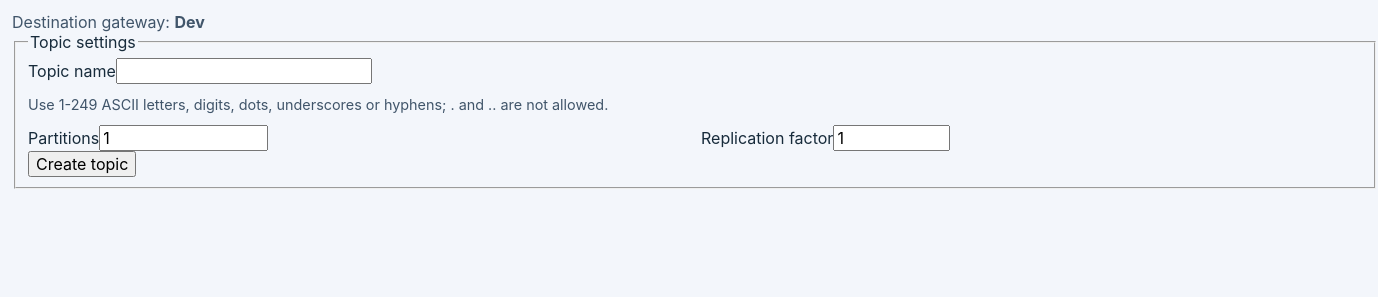
CreateTopic › warns when a network error leaves creation uncertain
Step 1. Type "orders" into the field labelled "Topic name" → (244, 71), box [116, 58, 372, 84]
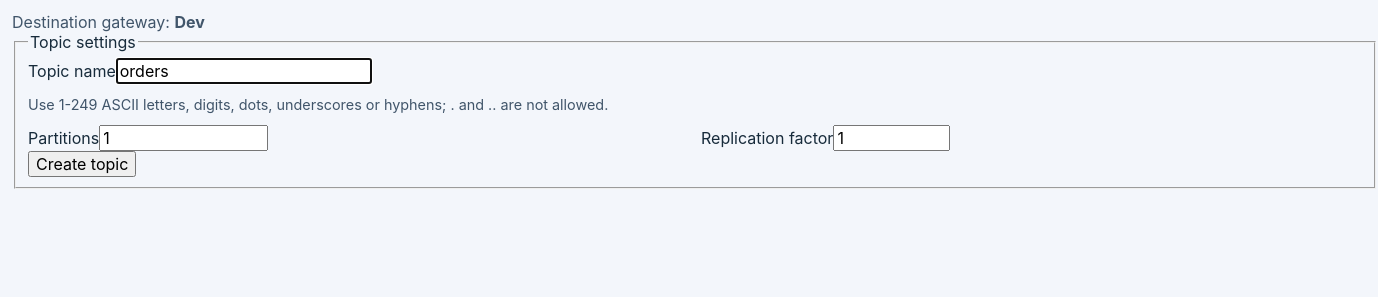
Step 2. Click the button "Create topic" → (82, 164), box [28, 151, 136, 177]
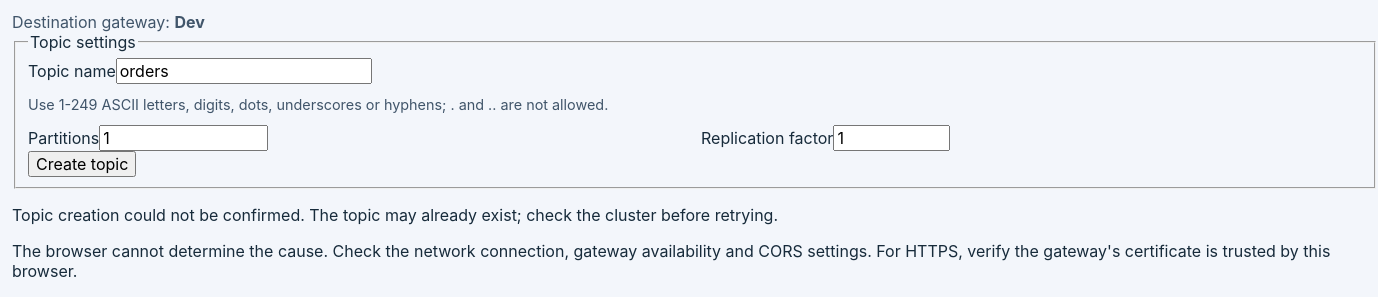
Check: the message shows "may already exist", box [12, 205, 778, 225]
Check: the message shows "browser cannot determine the cause", box [12, 241, 1330, 281]
Check: the message shows "certificate is trusted", box [12, 241, 1330, 281]
